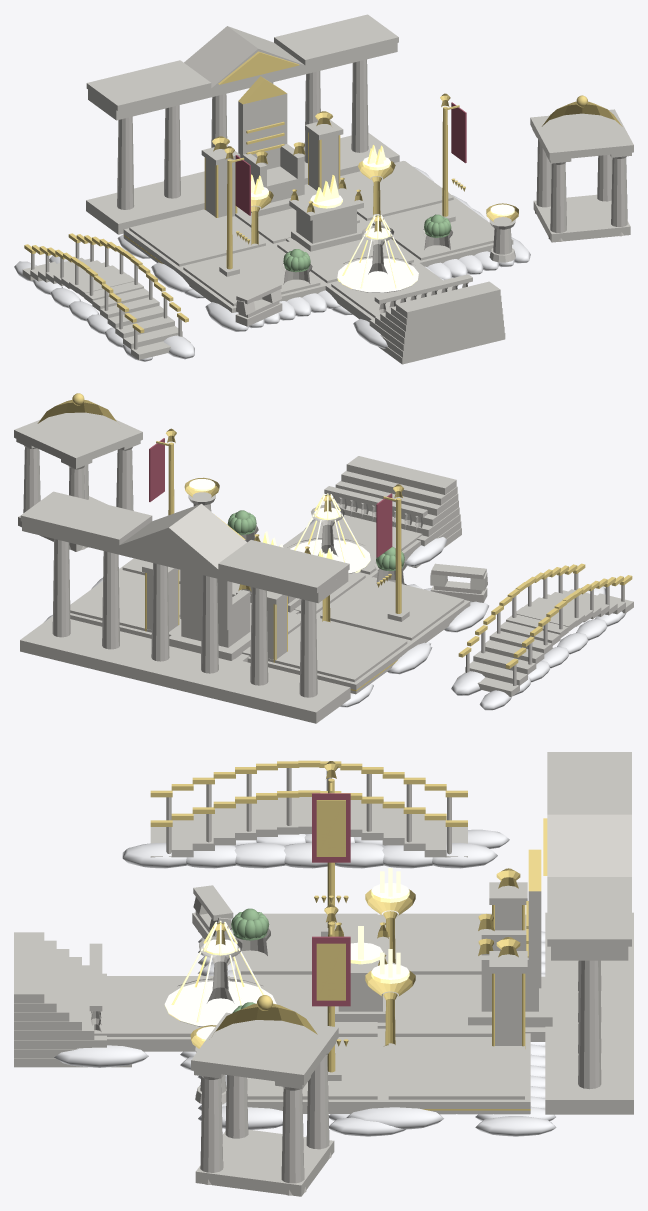
The model's file is mythic-underworld-and-olympus-olympus-terrace-880bf601__21469.glb.
3 views of the same model, one above another, from view 1: azimuth 30°, elevation 25°; view 2: azimuth 150°, elevation 25°; view 3: azimuth 270°, elevation 25° (orthographic). The views are drawn at different scales.
Parts seen in each view (by area): view 1: 026-sky-shrine/0, 011-colonnade-straight/0, 024-marble-stair/0, 025-sky-bridge/0, 013-thunder-throne/0, 010-colonnade-pediment/0, 012-colonnade-straight/0, 000-cloud-terrace-straight/1, 011-colonnade-straight/1, 012-colonnade-straight/1, 001-cloud-terrace-straight/1, 005-cloud-terrace-straight/1 (+37 smaller); view 2: 010-colonnade-pediment/0, 011-colonnade-straight/0, 012-colonnade-straight/0, 025-sky-bridge/0, 026-sky-shrine/0, 024-marble-stair/0, 001-cloud-terrace-straight/1, 013-thunder-throne/0, 000-cloud-terrace-straight/1, 012-colonnade-straight/1, 011-colonnade-straight/1, 025-sky-bridge/2 (+22 smaller); view 3: 026-sky-shrine/0, 025-sky-bridge/0, 012-colonnade-straight/0, 024-marble-stair/0, 010-colonnade-pediment/0, 025-sky-bridge/2, 004-cloud-terrace-straight/1, 012-colonnade-straight/1, 011-colonnade-straight/1, 000-cloud-terrace-straight/1, 009-cloud-terrace-balustrade/1, 013-thunder-throne/0 (+34 smaller).
Part boxes in pixels (x1,y1,x2,y2): 026-sky-shrine/0: [530, 109, 633, 242]; 011-colonnade-straight/0: [86, 89, 209, 234]; 024-marble-stair/0: [369, 281, 505, 364]; 025-sky-bridge/0: [22, 243, 190, 359]; 013-thunder-throne/0: [238, 93, 314, 216]; 010-colonnade-pediment/0: [180, 26, 305, 195]; 012-colonnade-straight/0: [301, 43, 399, 184]; 000-cloud-terrace-straight/1: [129, 209, 265, 266]; 011-colonnade-straight/1: [86, 60, 211, 110]; 012-colonnade-straight/1: [274, 14, 398, 65]; 001-cloud-terrace-straight/1: [183, 246, 320, 306]; 005-cloud-terrace-straight/1: [372, 200, 494, 260]; 010-colonnade-pediment/0: [118, 503, 250, 699]; 011-colonnade-straight/0: [217, 570, 350, 723]; 012-colonnade-straight/0: [20, 521, 151, 675]; 025-sky-bridge/0: [457, 573, 633, 696]; 026-sky-shrine/0: [14, 412, 142, 551]; 024-marble-stair/0: [335, 456, 461, 567]; 001-cloud-terrace-straight/1: [320, 577, 464, 640]; 013-thunder-throne/0: [169, 569, 250, 662]; 000-cloud-terrace-straight/1: [268, 619, 407, 682]; 012-colonnade-straight/1: [20, 491, 152, 545]; 011-colonnade-straight/1: [218, 540, 349, 593]; 025-sky-bridge/2: [451, 586, 626, 710]; 026-sky-shrine/0: [191, 1012, 338, 1196]; 025-sky-bridge/0: [150, 768, 467, 857]; 012-colonnade-straight/0: [545, 946, 633, 1114]; 024-marble-stair/0: [14, 932, 131, 1067]; 010-colonnade-pediment/0: [545, 814, 633, 1037]; 025-sky-bridge/2: [122, 829, 509, 868]; 004-cloud-terrace-straight/1: [388, 1038, 524, 1099]; 012-colonnade-straight/1: [547, 877, 631, 946]; 011-colonnade-straight/1: [547, 752, 631, 814]; 000-cloud-terrace-straight/1: [392, 913, 491, 974]; 009-cloud-terrace-balustrade/1: [94, 976, 229, 1036]; 013-thunder-throne/0: [468, 891, 552, 1041].
Size of the model in its own units: 22.7 by 6.63 by 16.8.
